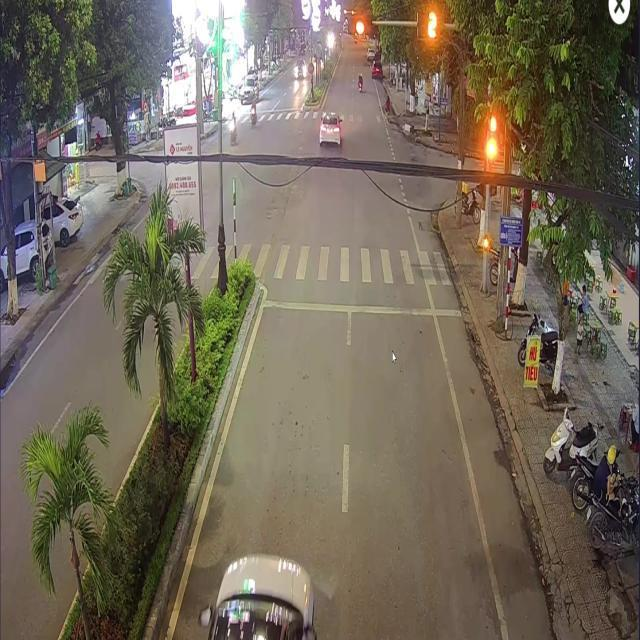car: (198, 553, 316, 638), (318, 110, 340, 146), (371, 59, 381, 78), (366, 48, 374, 60)
motobike: (357, 73, 362, 90)
stop_line: (263, 299, 461, 315)
yellow_light: (347, 18, 371, 34), (487, 130, 495, 169), (483, 234, 487, 251)
